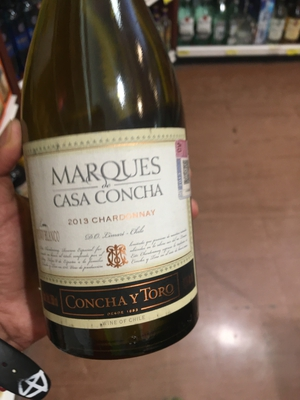marques de casa concha chardonnay: (10, 27, 208, 366)
